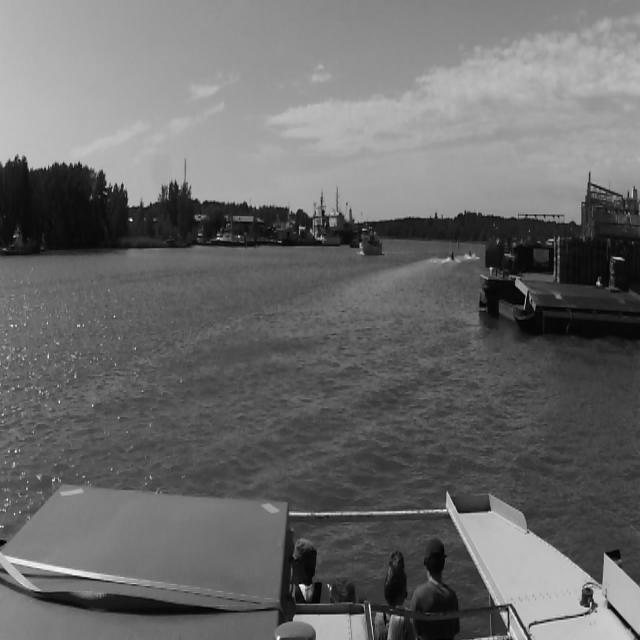ship: (359, 228, 382, 258), (467, 250, 473, 258), (450, 251, 454, 261)
